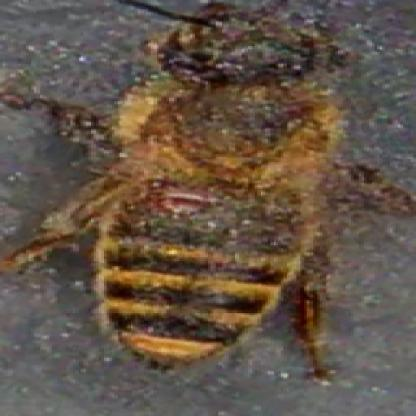bee: (88, 12, 370, 368)
vaoora: (162, 190, 210, 219)
